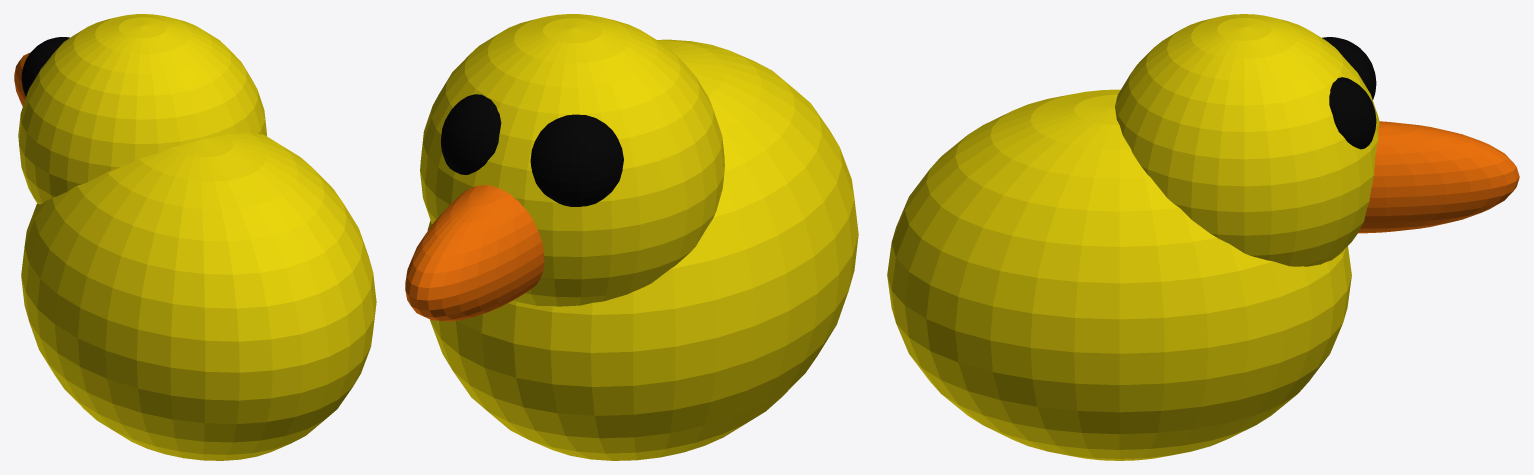
Rendered from Duck.fbx.
3 views of the same model, side by side, from view 1: azimuth 30°, elevation 25°; view 2: azimuth 150°, elevation 25°; view 3: azimuth 270°, elevation 25° (orthographic). The views are drawn at different scales.
Visible parts, largest first — view 1: Sphere, Sphere.001, Sphere.003, Sphere.004; view 2: Sphere, Sphere.001, Sphere.004, Sphere.003, Sphere.002; view 3: Sphere, Sphere.001, Sphere.004, Sphere.002, Sphere.003.
Boxes of the visible parts, <box> form: Sphere: <box>21,132,376,460</box>; Sphere.001: <box>18,14,266,204</box>; Sphere.003: <box>21,37,69,96</box>; Sphere.004: <box>14,52,30,106</box>; Sphere: <box>427,39,858,460</box>; Sphere.001: <box>420,14,724,306</box>; Sphere.004: <box>405,185,544,321</box>; Sphere.003: <box>530,114,623,206</box>; Sphere.002: <box>440,94,501,174</box>; Sphere: <box>887,89,1351,460</box>; Sphere.001: <box>1115,14,1379,266</box>; Sphere.004: <box>1358,121,1519,233</box>; Sphere.002: <box>1329,77,1376,149</box>; Sphere.003: <box>1322,37,1376,99</box>.
Size of the model in its own units: 200 by 247 by 340.
